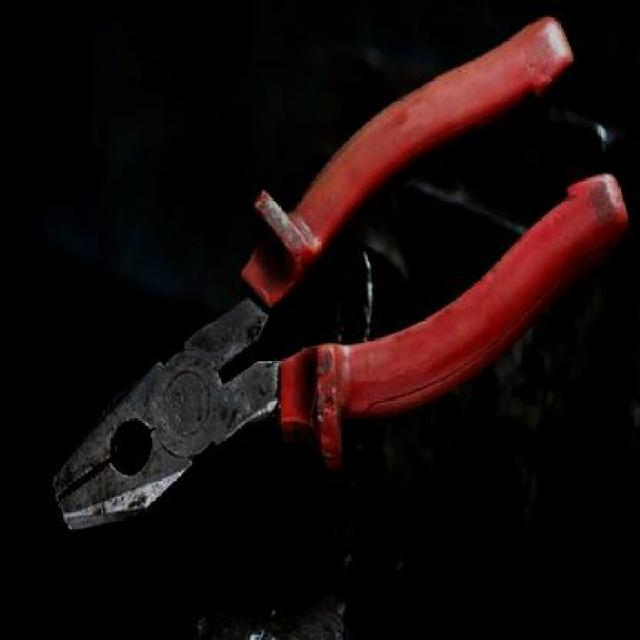pliers: (46, 11, 629, 537)
